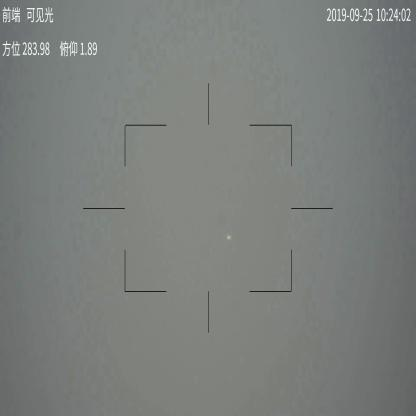uav: (225, 233, 232, 241)
